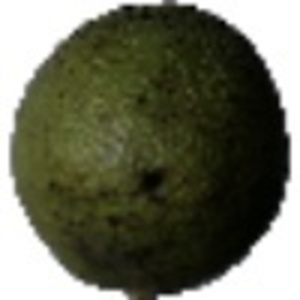abacate: (5, 3, 292, 294)
